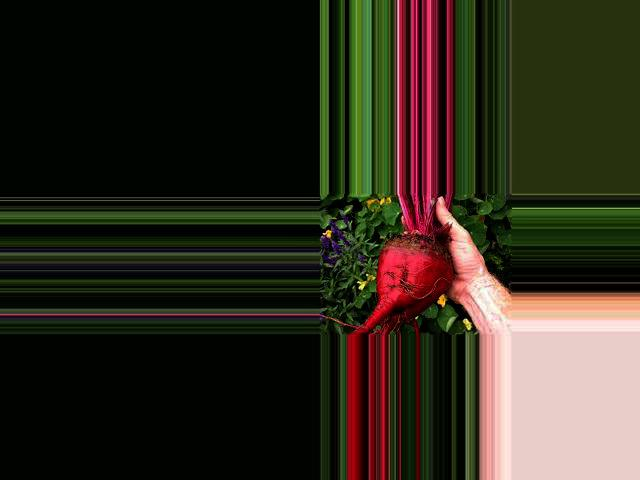beet: (349, 194, 453, 335)
